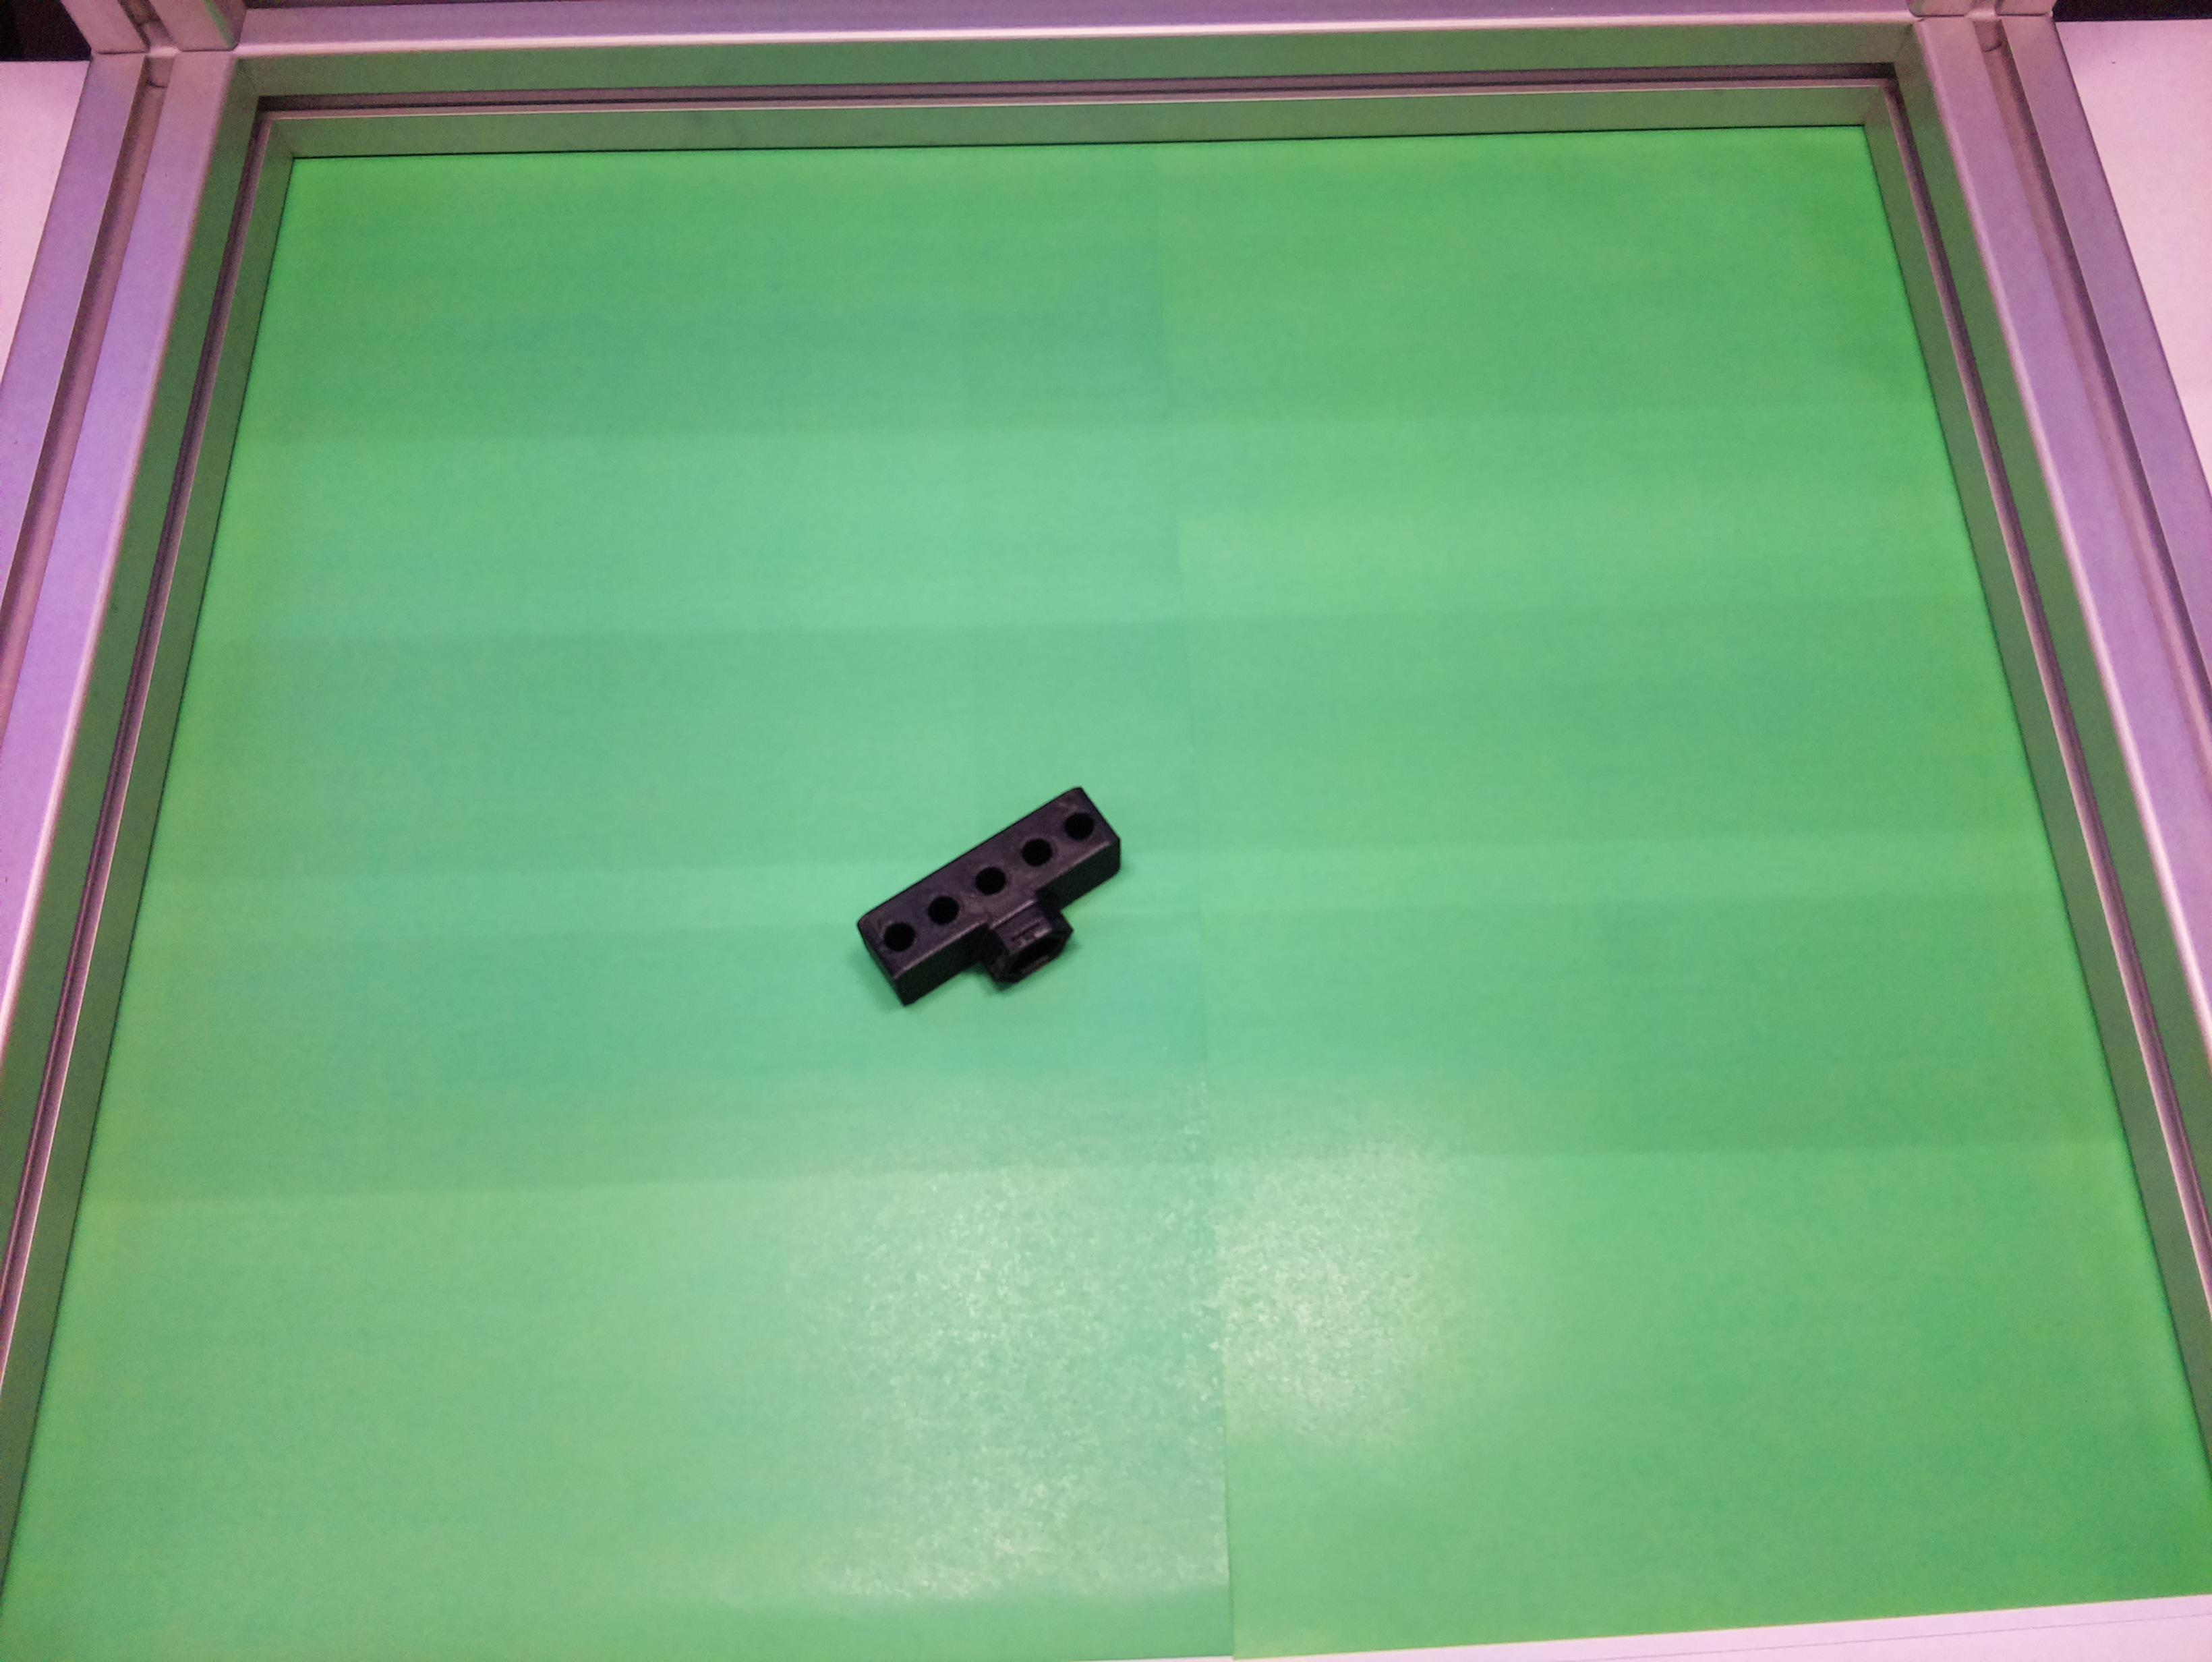bit_holder: (847, 768, 1154, 1047)
